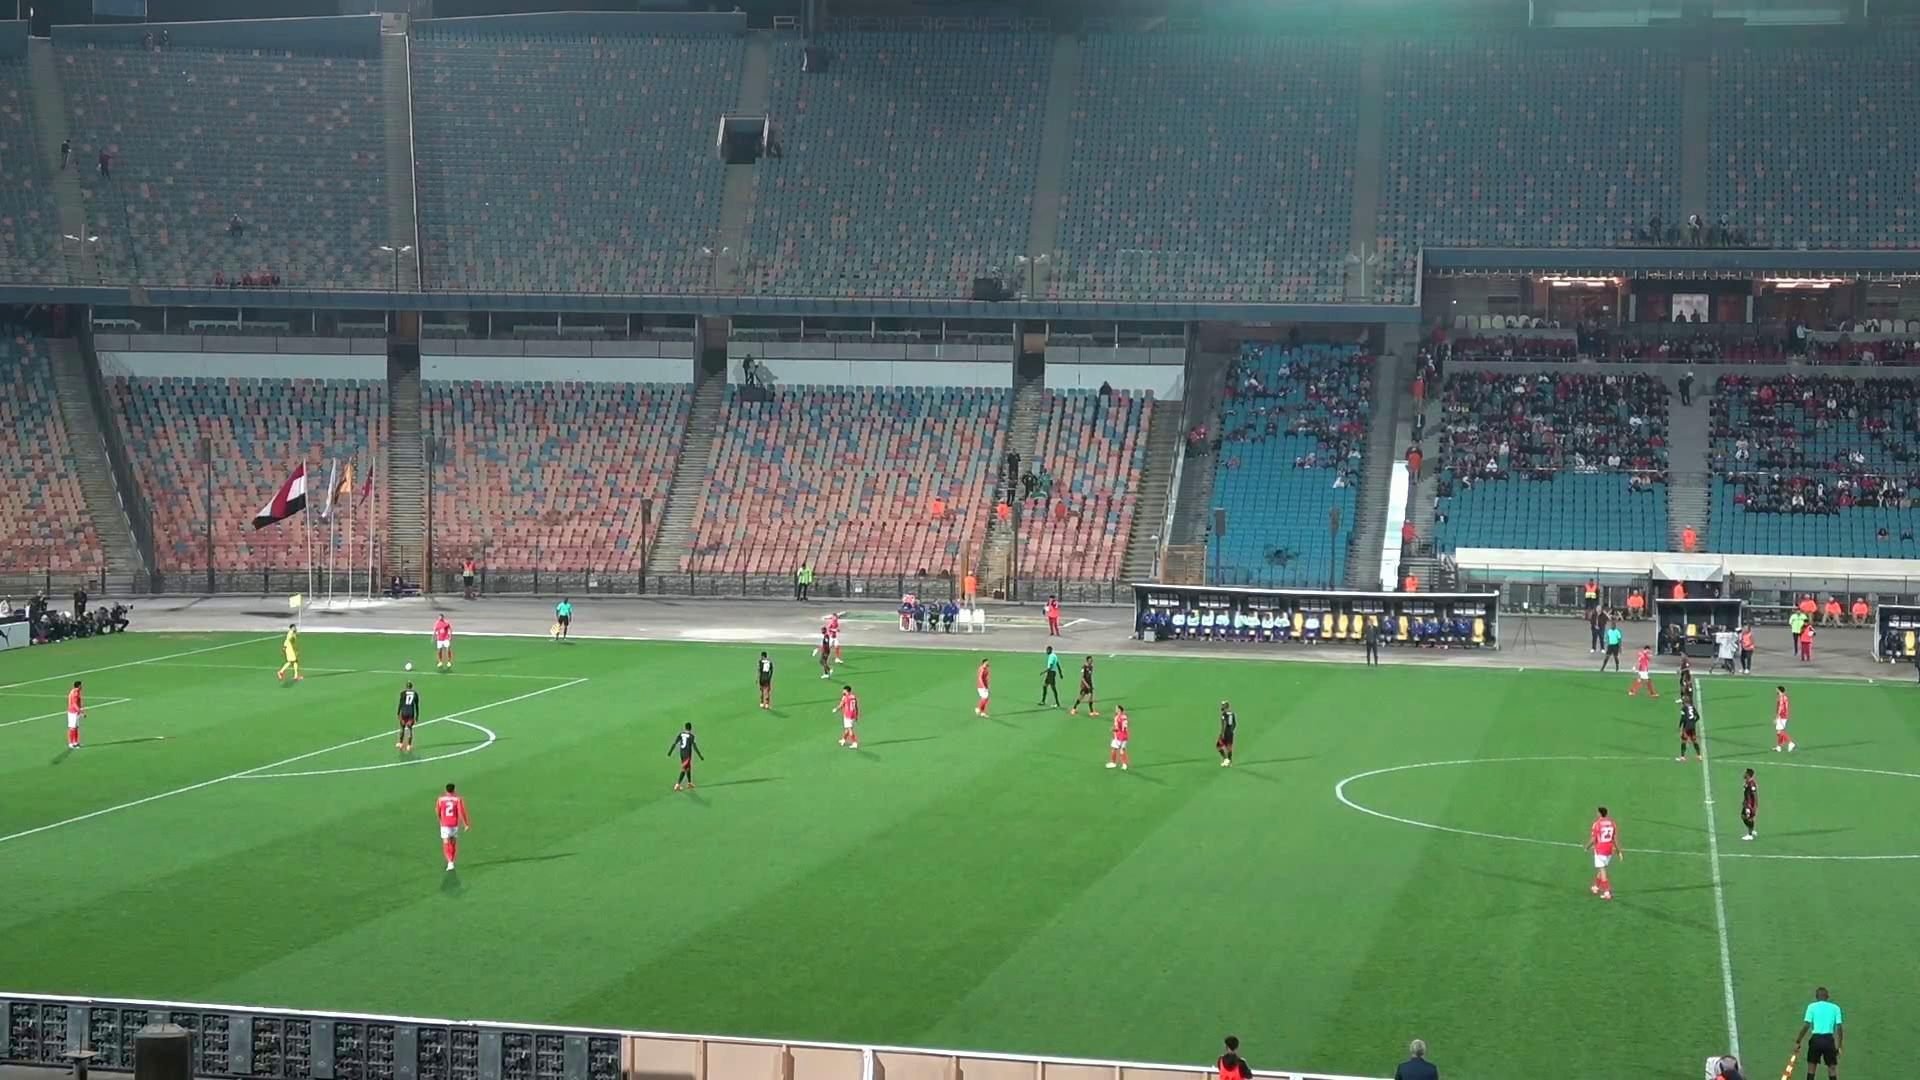Ball: (404, 661, 414, 671)
GK1: (276, 622, 303, 680)
Refree: (1782, 986, 1844, 1079), (1038, 646, 1062, 707), (1601, 615, 1622, 673), (551, 597, 574, 640)
Team1: (1585, 806, 1621, 899), (436, 782, 471, 876), (1772, 684, 1796, 752), (833, 684, 858, 748), (1629, 646, 1658, 698), (1105, 705, 1129, 767), (433, 612, 454, 671), (822, 612, 843, 670), (66, 680, 82, 750), (975, 661, 990, 717)
Team2: (669, 721, 702, 790), (396, 680, 419, 752), (1677, 688, 1701, 760), (1068, 655, 1096, 715), (1215, 700, 1236, 766), (814, 630, 840, 678), (1741, 767, 1758, 840), (1675, 644, 1693, 694)
